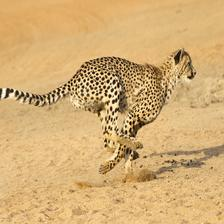Cheetah: (2, 41, 198, 181)
